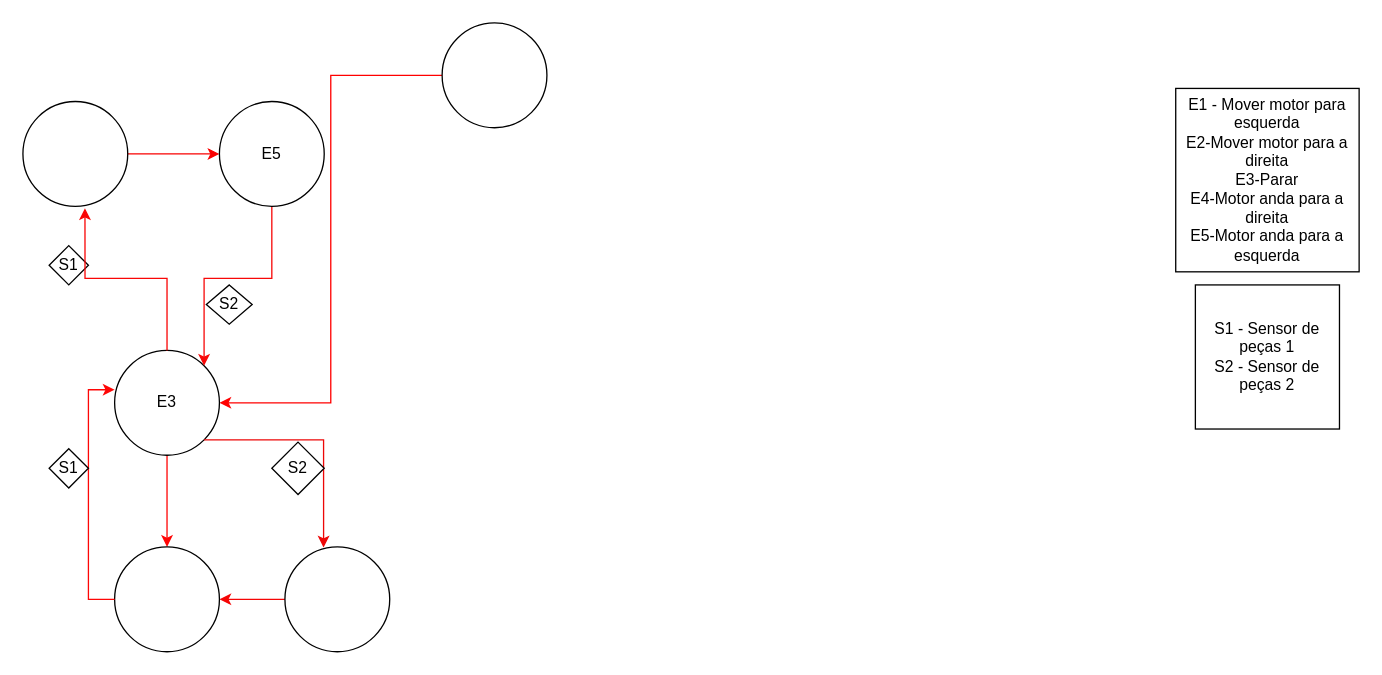
Image size: 1382x675. Some labels were removed from this diagram. Here are the shapes that lost their labels. From the top down, the centre of each, then its label:
At point (494, 75): "Inicio".
At point (75, 153): "E1".
At point (166, 599): "E4".
At point (337, 599): "E2".
